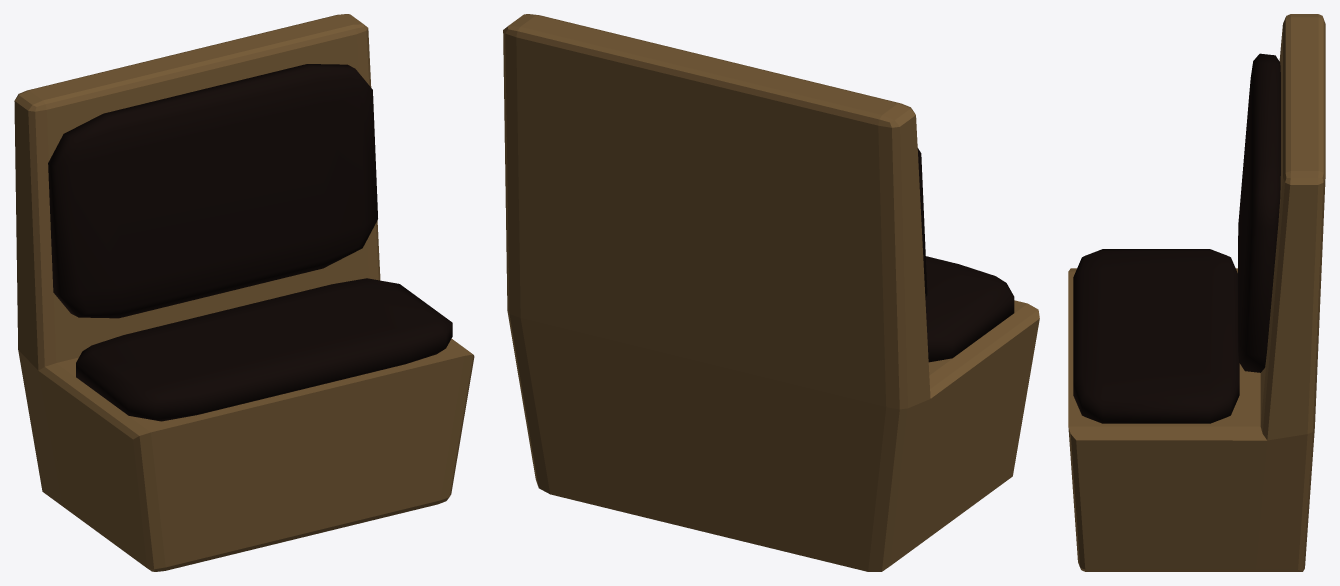
The model's file is Chair.fbx.
3 views of the same model, side by side, from view 1: azimuth 30°, elevation 25°; view 2: azimuth 150°, elevation 25°; view 3: azimuth 270°, elevation 25° (orthographic). The views are drawn at different scales.
Visible parts, largest first — view 1: Chair.001, Chair; view 2: Chair, Chair.001; view 3: Chair, Chair.001.
Part boxes in pixels (x1,y1,x2,y2): Chair.001: [48, 64, 452, 421]; Chair: [14, 14, 474, 571]; Chair: [503, 14, 1039, 571]; Chair.001: [917, 148, 1014, 362]; Chair: [1068, 14, 1325, 571]; Chair.001: [1073, 53, 1280, 423].
Bounding box in the file's own units: 84.23 × 94.05 × 53.85.
